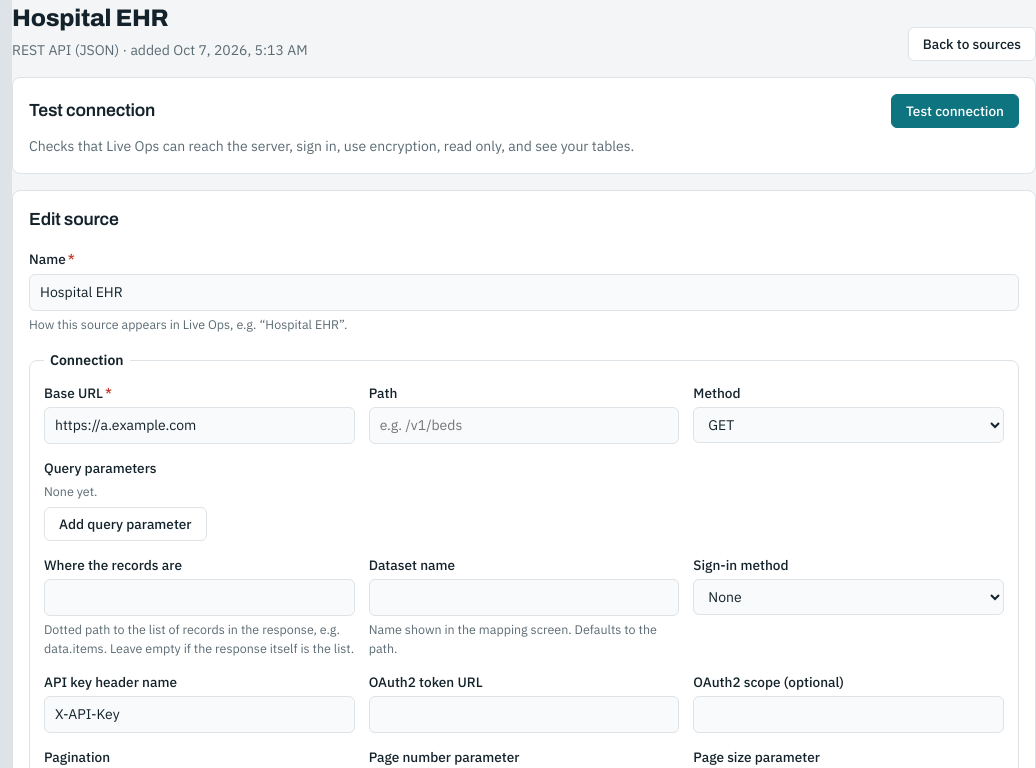
Test: picker and edit behaviour for the integrated backend › the server's re-enter 422 marks the secret field
expect the field labelled "Base URL*" is shown: met, box [44, 407, 355, 444]
Replace the text in the field labelled "Name*" with "Renamed" at (524, 292), box [29, 274, 1019, 311]
(page scrolled)
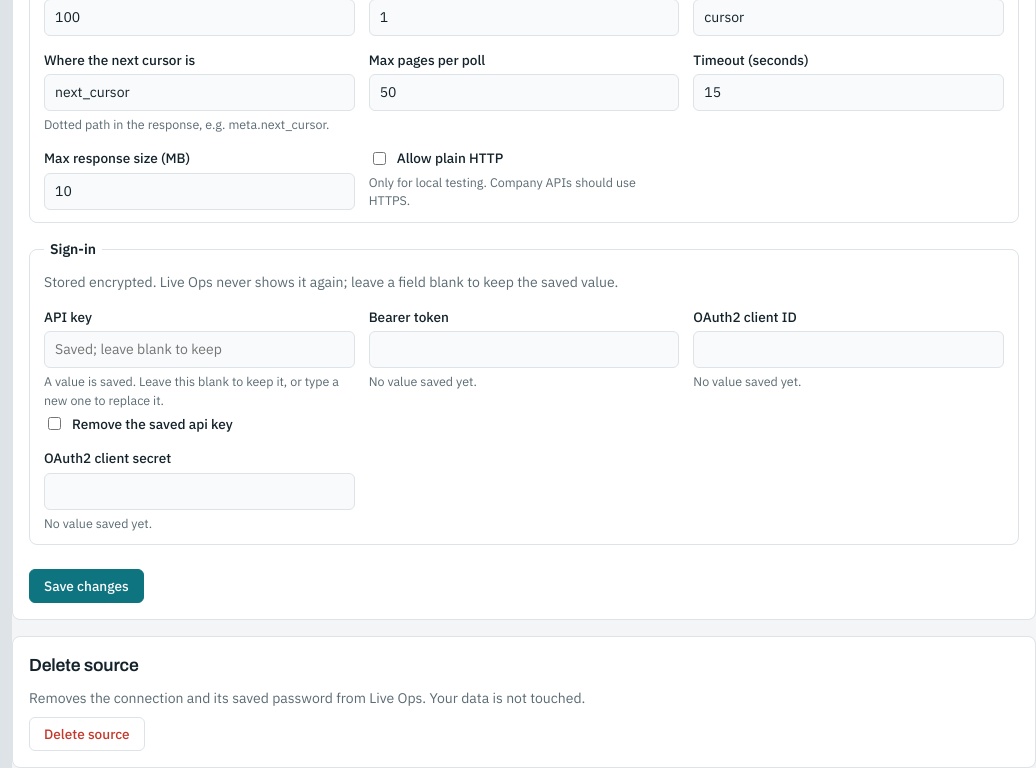
Click the button "Save changes" at (86, 586), box [29, 569, 144, 603]
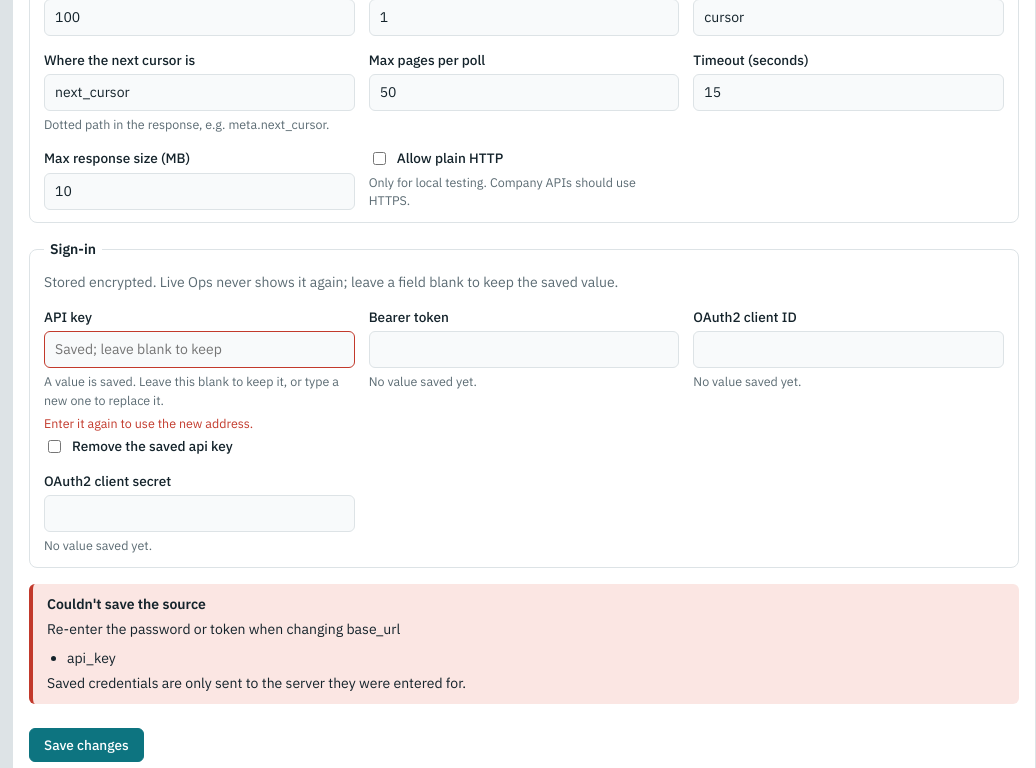
expect the text "Couldn't save the source" shows "Re-enter the password or token when changing base_url": met, box [47, 620, 400, 638]
expect the text "Enter it again to use the new address." is shown: met, box [44, 415, 253, 431]
